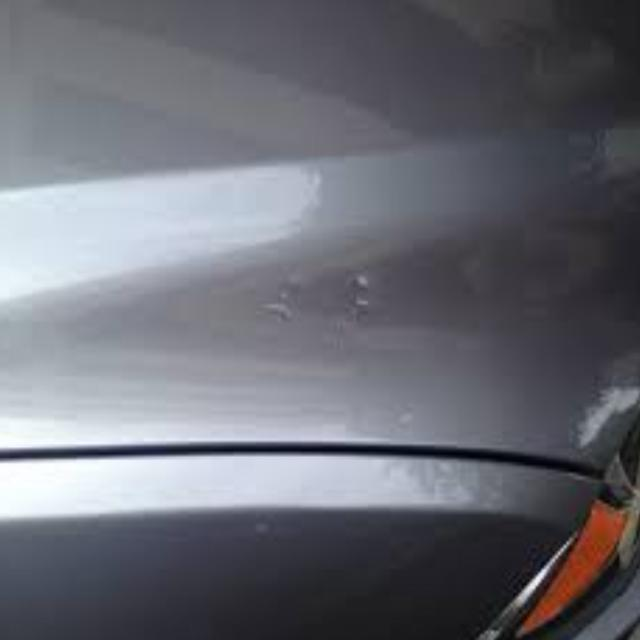dents: (335, 271, 400, 350), (267, 262, 302, 353)
